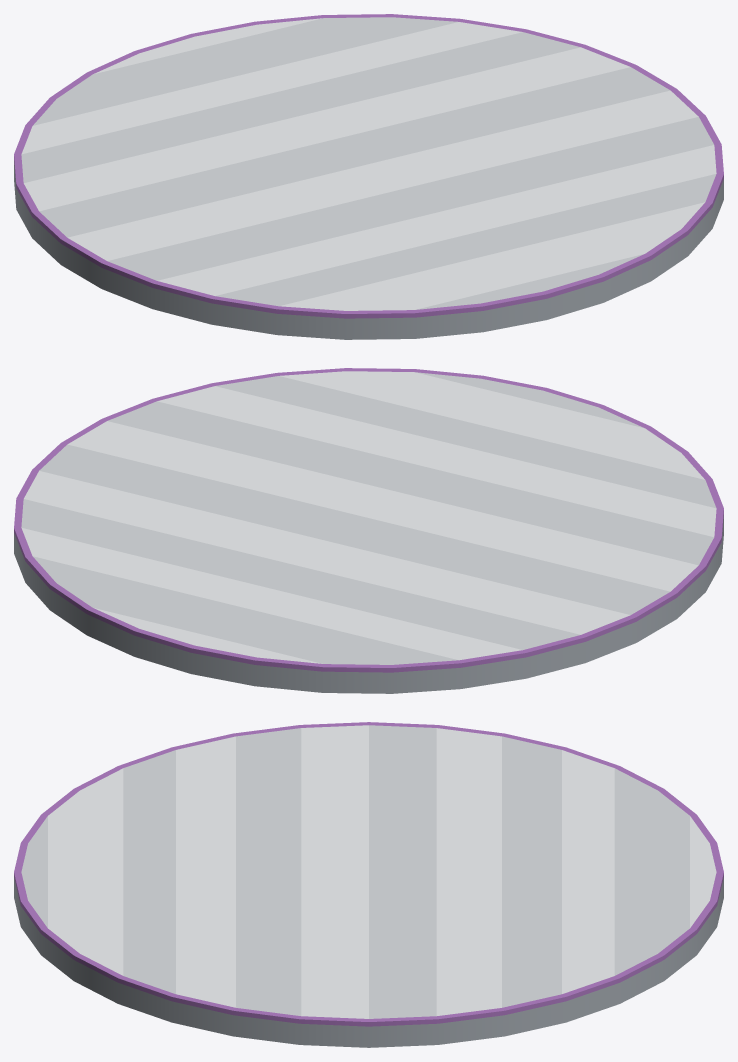
File: Platform.Cylinder.fbx
3 renders of one model, top to bottom at view 1: azimuth 30°, elevation 25°; view 2: azimuth 150°, elevation 25°; view 3: azimuth 270°, elevation 25°, orthographic.
Parts seen in each view (by area): view 1: Platform.Cylinder; view 2: Platform.Cylinder; view 3: Platform.Cylinder.
Part boxes in pixels (<box>): Platform.Cylinder: <box>14,14,723,339</box>; Platform.Cylinder: <box>14,368,723,693</box>; Platform.Cylinder: <box>14,722,723,1047</box>.
Bounding box in the file's own units: 25 × 1 × 25.
